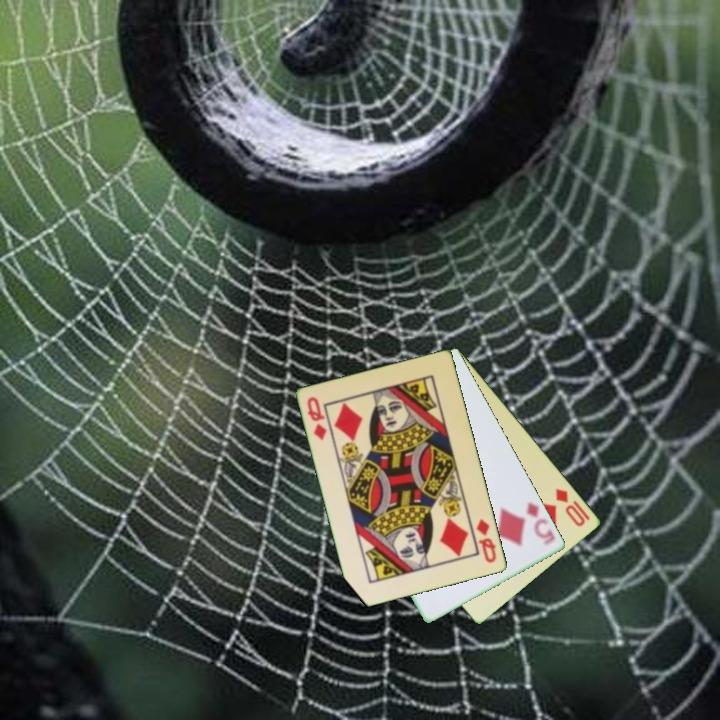10d: (552, 485, 593, 530)
5d: (523, 498, 558, 549)
Qd: (473, 515, 500, 566), (304, 393, 330, 443)
